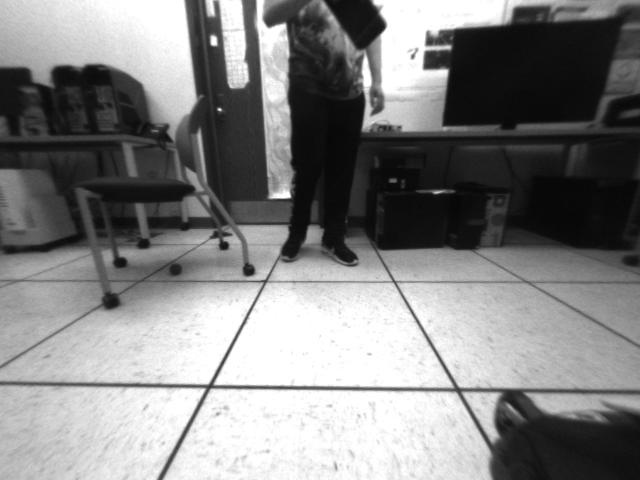dogtoy: (167, 258, 189, 280)
